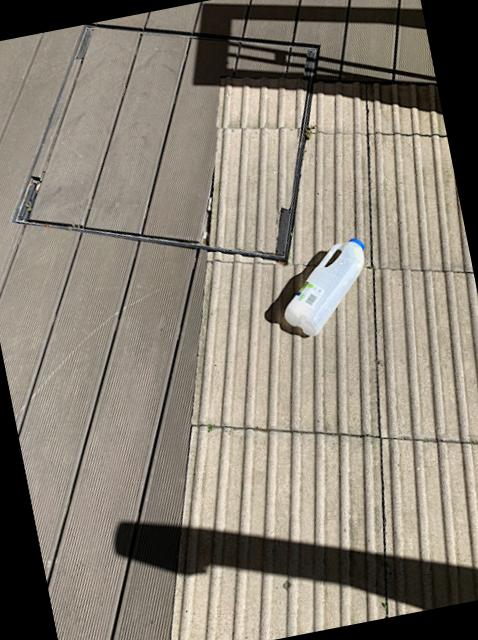plastic: (283, 238, 362, 334)
